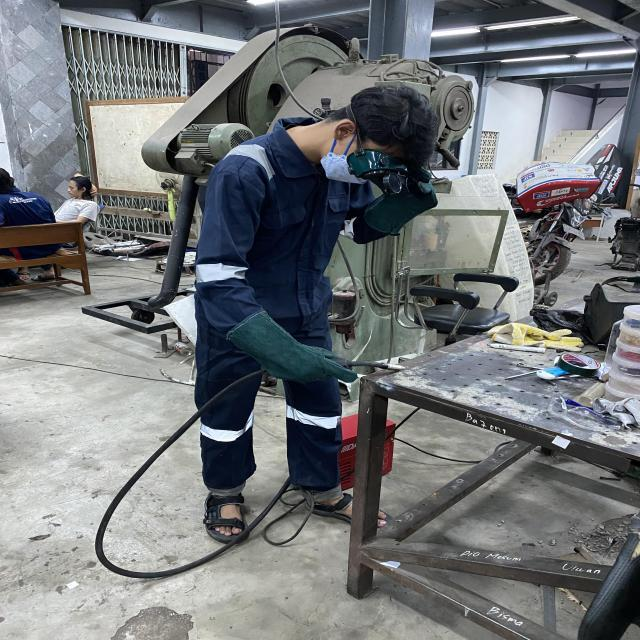glasses: (338, 140, 428, 206)
